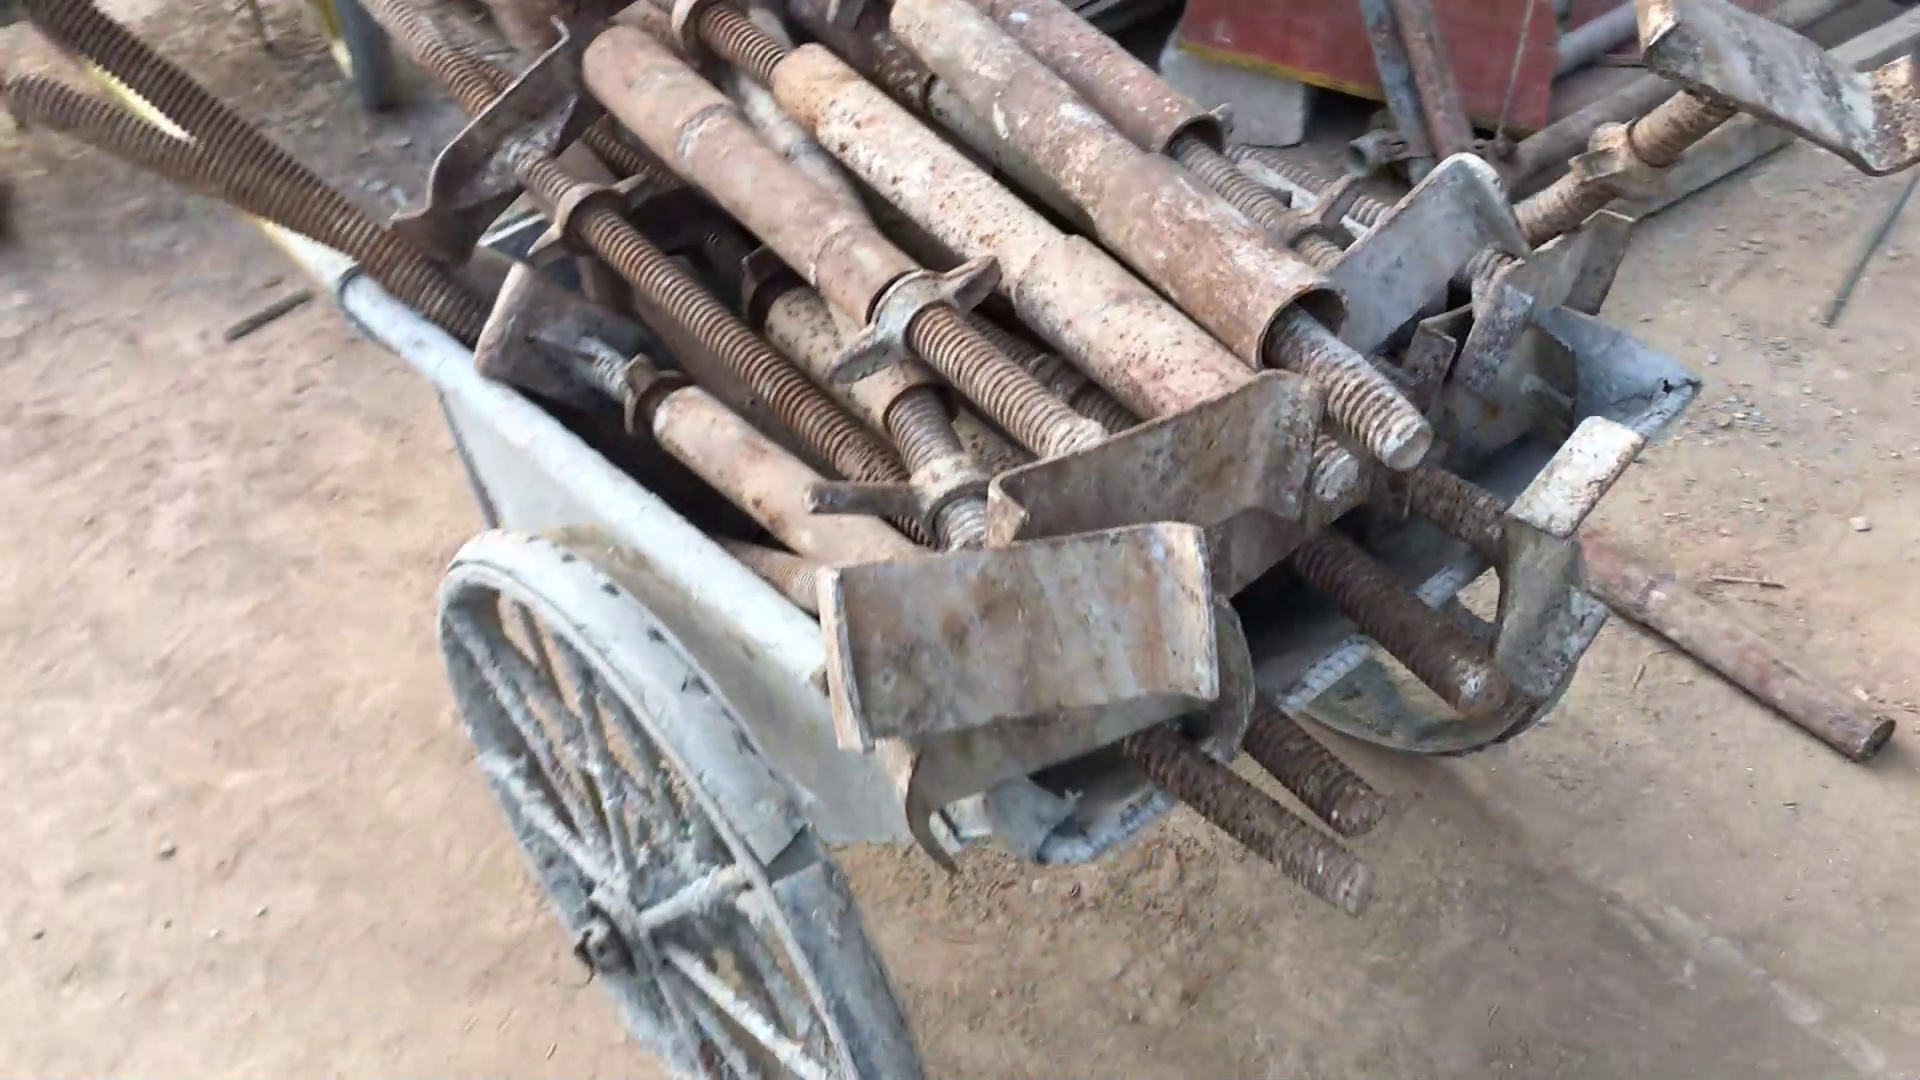handcart: (229, 78, 1702, 1077)
